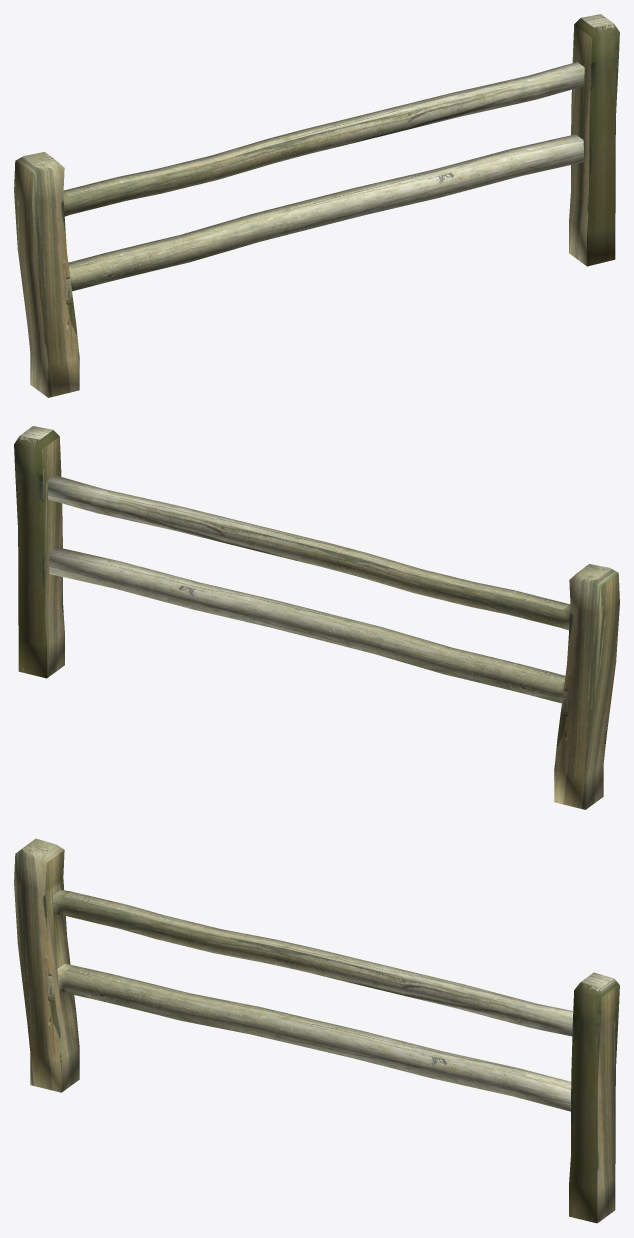
File: fence3.obj
The picture shows the model from 3 angles, top to bottom: view 1: azimuth 30°, elevation 25°; view 2: azimuth 150°, elevation 25°; view 3: azimuth 330°, elevation 25°; orthographic projection.
Visible parts, largest first — view 1: fence3; view 2: fence3; view 3: fence3.
Boxes of the visible parts, x1,y1,x2,y2 form: fence3: [14, 14, 619, 397]; fence3: [14, 426, 619, 809]; fence3: [14, 838, 619, 1223].
Bounding box in the file's own units: 4.53 × 1.73 × 0.2415.
Materials: 1 (1 with a texture image).
